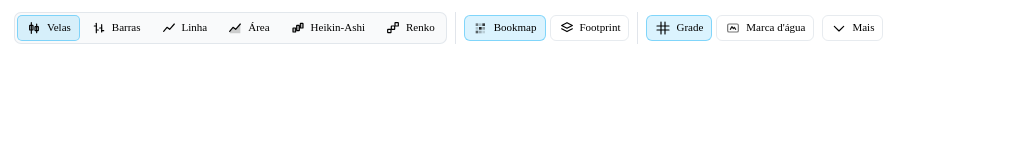
Test: ChartToolbar — responsivo sem media query › ⭐ aperta e o grupo MENOS essencial (Ações) sai da barra para o menu "Mais"
Expected: the element "Ações" is not shown
Expected: the element named "Desenho do gráfico" is shown, [14,12,447,44]
What coordinates should you click on to do the following:
click the button with aria-label "Mais ferramentas"
I would click on:
 (853, 28)
Its box is [822,15,883,41].
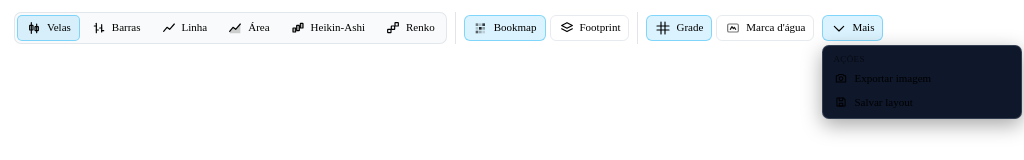
Now the button with aria-label "Mais ferramentas" is expanded, box [822,15,883,41]
Now the element "Ações" is shown, box [827,54,1017,114]
What coordinates should you click on to do the following:
click the menu item "Exportar imagem"
I would click on:
 (922, 78)
Its box is [827,66,1017,90].
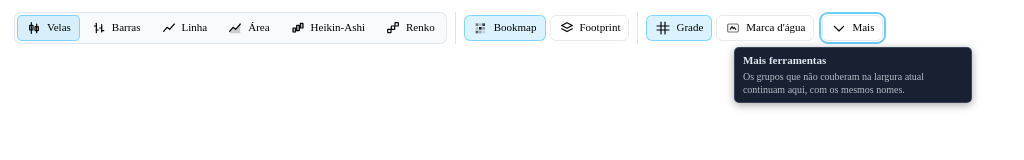
Now the menu is gone
